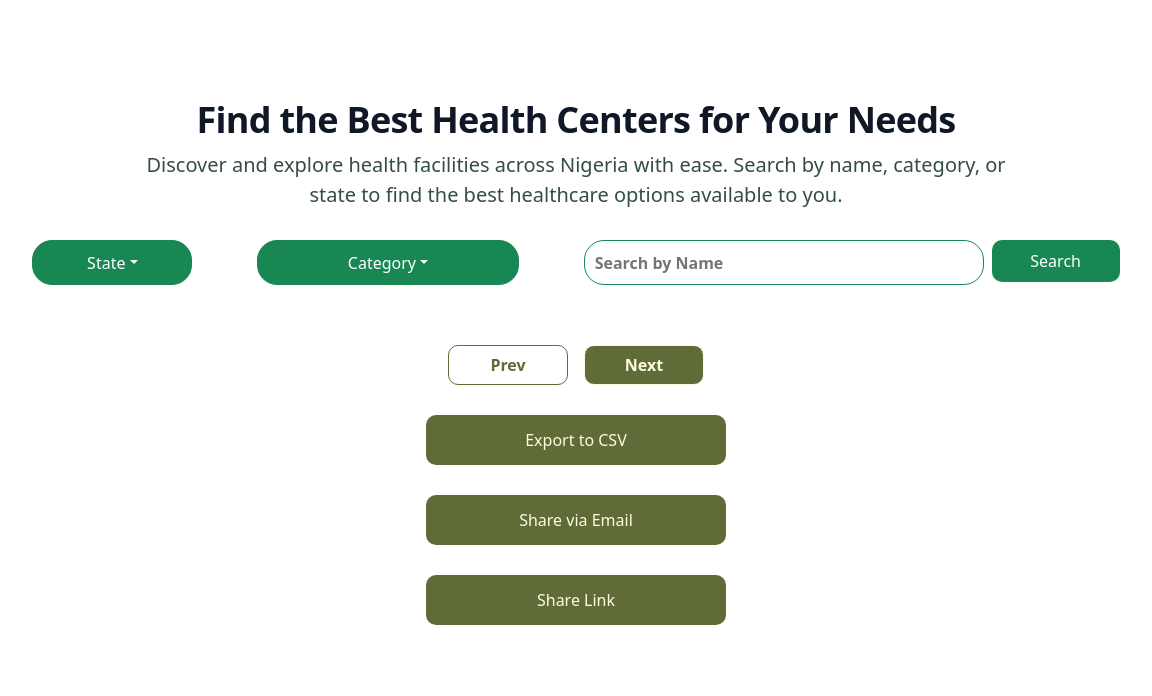
Scenario: SearchHealthCenters Component › filters results based on search input
In the field with placeholder "Search by Name": point(784, 262) [584,240,984,285], type "Health Center 1"
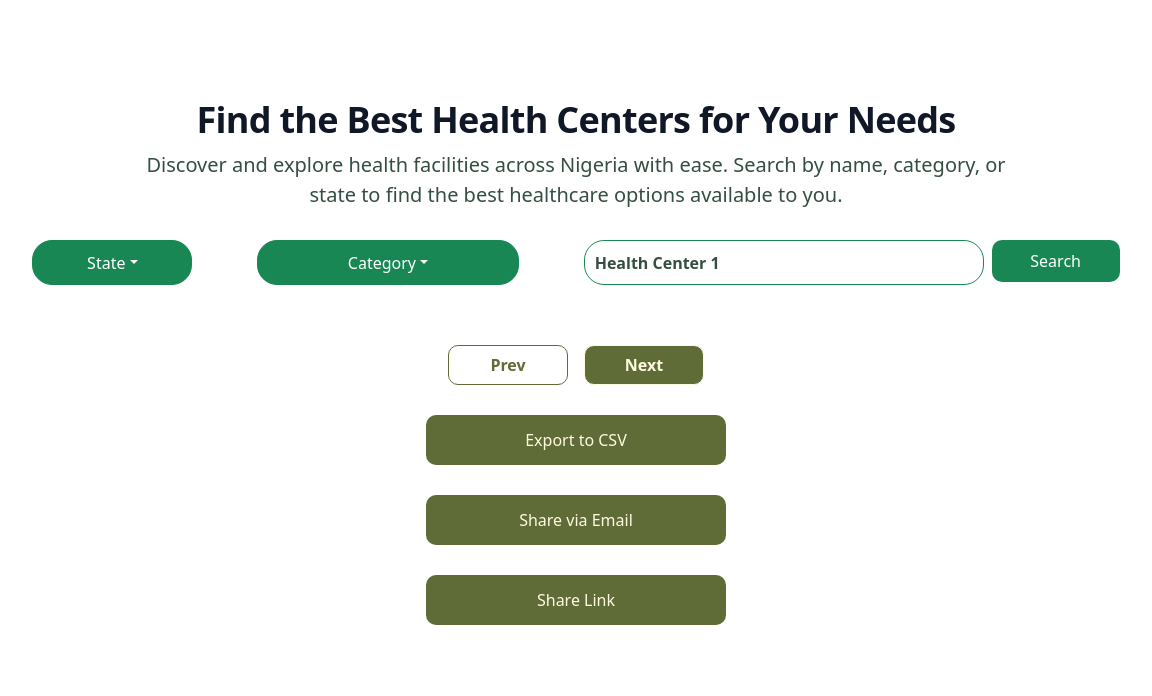
Click the button "Search": point(1056, 261) [992,240,1120,282]
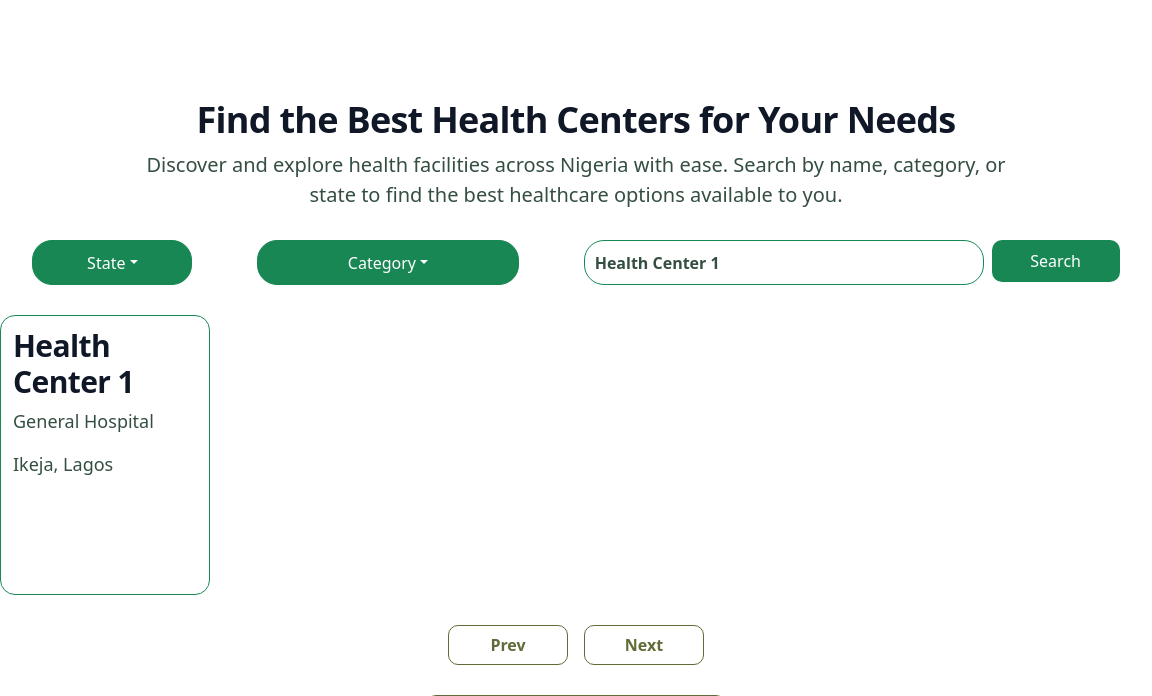
expect the heading "Health Center 1" is shown: met, box [13,325,134,402]
